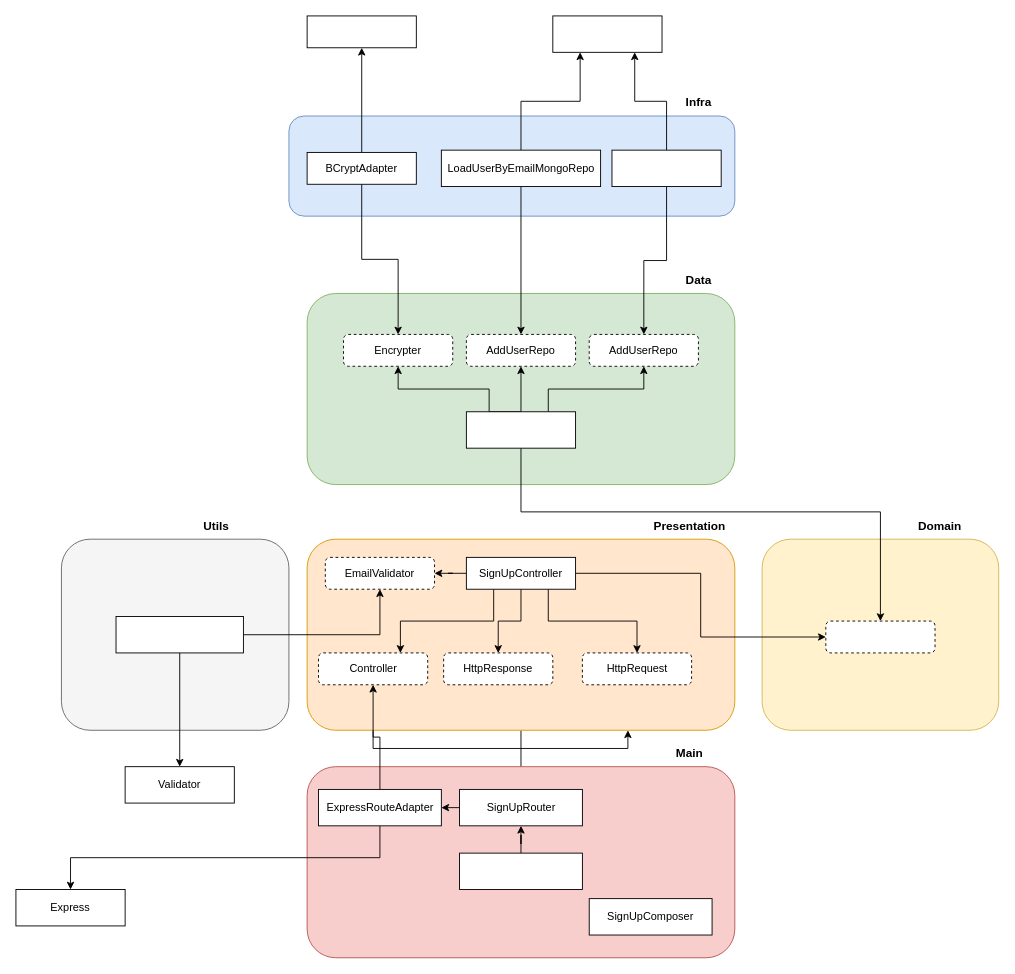
Image size: 1015x974. Some labels were removed from this diagram. Here are the shapes that lost their labels. From the top down, the centre of each, then its label:
At point 361,31: "BCrypt".
At point 607,33: "MongoDb".
At point 666,168: "AddUserMongoRepo".
At point 520,429: "DbAddAccount".
At point 179,634: "EmailValidatorAdapter".
At point 880,636: "AddAccount".
At point 520,871: "App".
